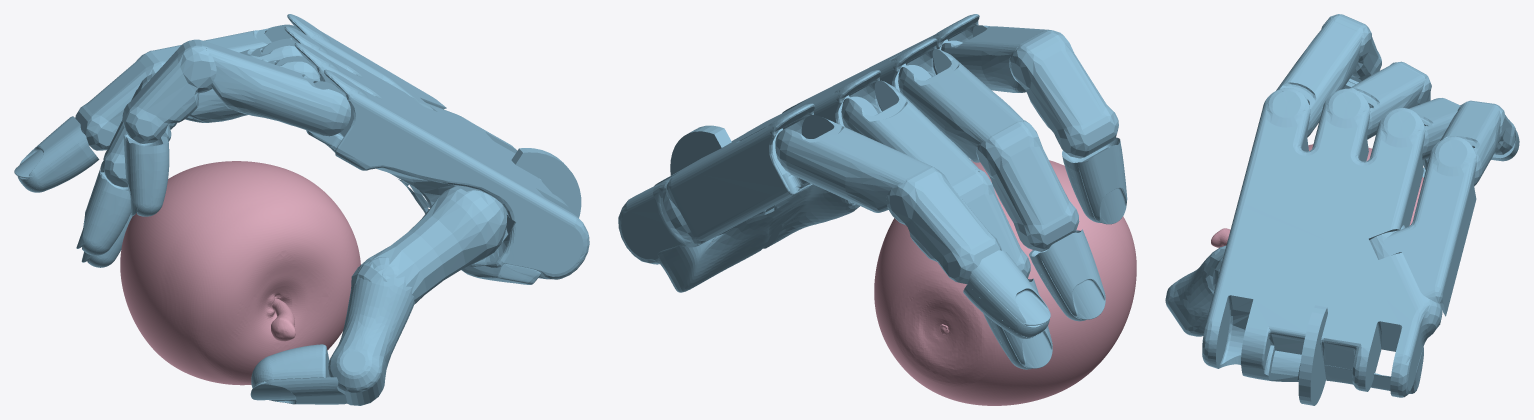
The picture shows the model from 3 angles, left to right: view 1: azimuth 30°, elevation 25°; view 2: azimuth 150°, elevation 25°; view 3: azimuth 270°, elevation 25°; orthographic projection. The views are drawn at different scales.
Visible parts, largest first — view 1: world; view 2: world; view 3: world.
Part boxes in pixels (x1,y1,x2,y2): world: (14, 14, 589, 405); world: (618, 14, 1136, 405); world: (1165, 14, 1519, 405).
Size of the model in its own units: 0.1727 by 0.1232 by 0.1318.
